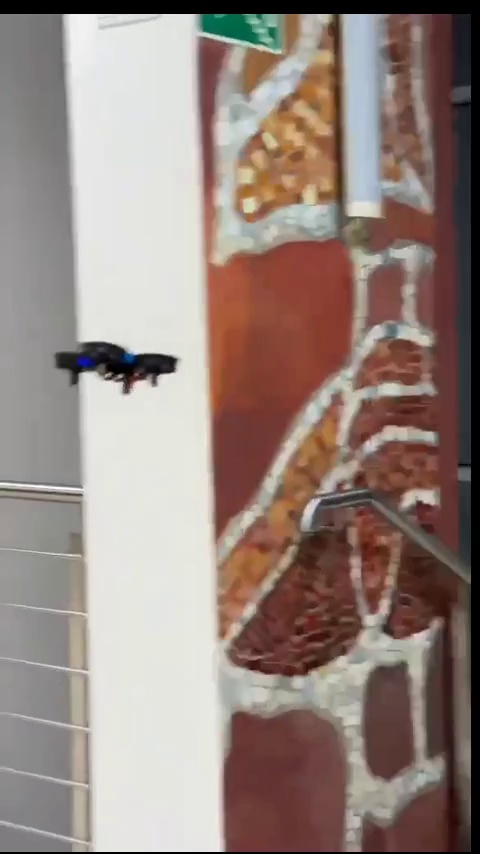drone: (62, 340, 176, 397)
